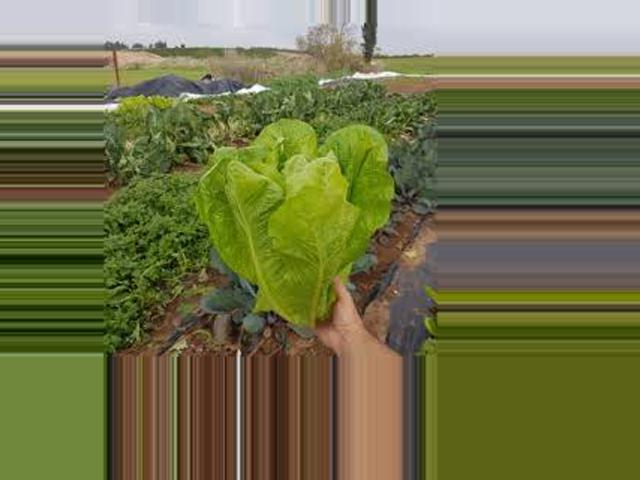lettuce: (189, 118, 402, 339)
